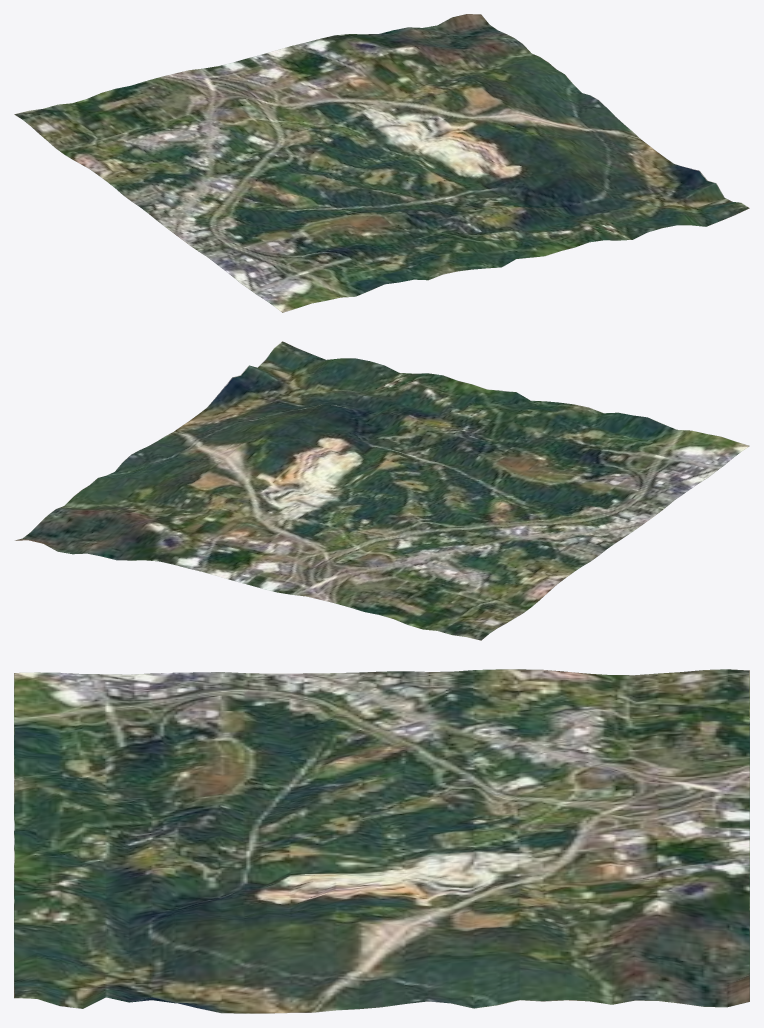
The picture shows the model from 3 angles, top to bottom: view 1: azimuth 30°, elevation 25°; view 2: azimuth 150°, elevation 25°; view 3: azimuth 270°, elevation 25°; orthographic projection. The views are drawn at different scales.
Bounding box in the file's own units: 3904 × 206 × 3886.
1 material, 1 textured.
